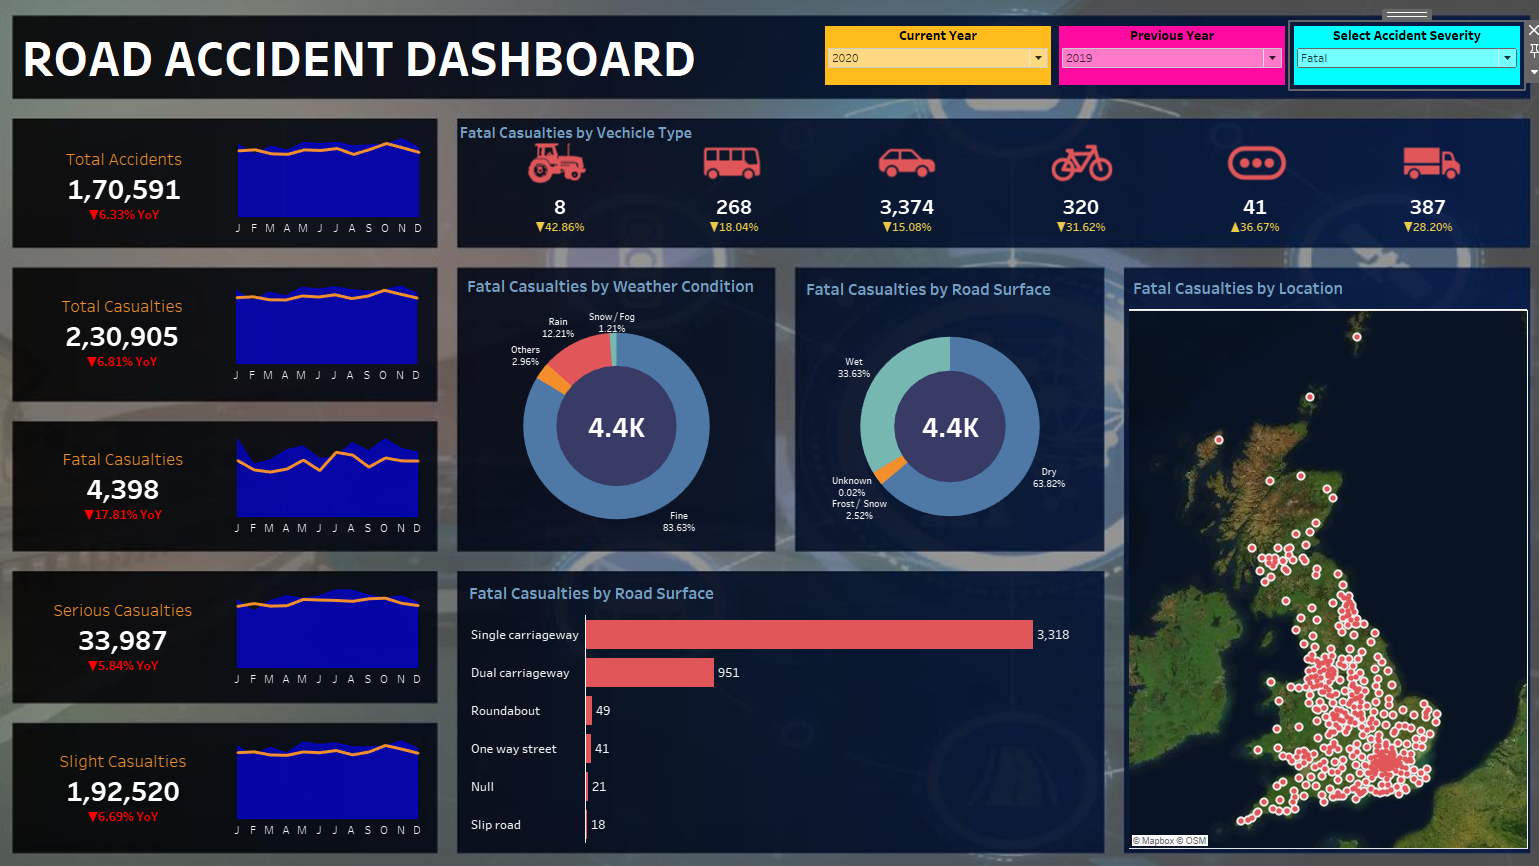

The page's visual inventory and layout, read from the dashboard file:
{"tool":"tableau","page":{"name":"Road Accident Dashboard","canvas":[1600,900],"ordinal":0},"visuals":[{"type":"image","param":"C:/Users/ASUS/Documents/Projects/Tableau Dashboard/Road Accident Dashboard/Backg","box":[8,8,1584,884]},{"type":"text","box":[46,17,775,108]},{"type":"parameter","param":"[Parameters].[Parameter 1]","box":[848,37,234.3,67]},{"type":"parameter","param":"[Parameters].[Current Year (copy)_975592275588612097]","box":[1082.3,37,234.3,67]},{"type":"parameter","param":"[Parameters].[Parameter 2]","box":[1316.7,37,234.3,67]},{"type":"text","box":[484,132,332,30]},{"type":"worksheet","title":"Total Accidents","mark":"Automatic","box":[48,146,205,110]},{"type":"worksheet","title":"Accident Sparkline","mark":"Automatic","rows":["CY Accidents (copy)_975592275590017027","Calculation_975592275588898818"],"cols":["Accident Date"],"box":[253,146,205,110]},{"type":"worksheet","title":"Vehicle Type Images","mark":"Shape","box":[496,157,1050,42]},{"type":"worksheet","title":"Vechile Type KPI","mark":"Automatic","box":[496,199,1050,58]},{"type":"worksheet","title":"Weather Conditions","mark":"Pie","rows":["Calculation_664280951812317185","Calculation_664280951812382723"],"box":[490,286,307,273]},{"type":"worksheet","title":"By Location","mark":"Automatic","rows":["Latitude"],"cols":["Longitude"],"box":[1156,288,399,576]},{"type":"worksheet","title":"Road Surface","mark":"Pie","rows":["Calculation_664280951812317185","Calculation_664280951812382723"],"box":[829,289,296,268]},{"type":"worksheet","title":"Total Casualties","mark":"Automatic","box":[46,293,205,110]},{"type":"worksheet","title":"Total Casualties Sparkline","mark":"Automatic","rows":["CY Casualties (copy)_975592275595239430","Calculation_975592275593904133"],"cols":["Accident Date"],"box":[251,293,205,110]},{"type":"worksheet","title":"Fatal Casualties","mark":"Automatic","box":[47,446,205,110]},{"type":"worksheet","title":"Fatal Sparkline","mark":"Automatic","rows":["CY Fatal Casualties (copy)_975592275597860873","Calculation_975592275596660744"],"cols":["Accident Date"],"box":[252,446,205,110]},{"type":"worksheet","title":"Road Type","mark":"Automatic","rows":["Road_Type"],"cols":["Calculation_975592275593904133"],"box":[492,593,632,265]},{"type":"worksheet","title":"Serious Casualties","mark":"Automatic","box":[47,597,205,110]},{"type":"worksheet","title":"Serious Sparkline","mark":"Automatic","rows":["PY Fatal Casualties (copy)_975592275599323148","CY Fatal Casualties (copy)_975592275598983179"],"cols":["Accident Date"],"box":[252,597,205,110]},{"type":"worksheet","title":"Slight Casualties","mark":"Automatic","box":[47,748,205,110]},{"type":"worksheet","title":"Slight Sparkline","mark":"Automatic","rows":["PY Serious Casualties (copy)_975592275600191503","CY Serious Casualties (copy)_975592275599986702"],"cols":["Accident Date"],"box":[252,748,205,110]}]}

Visuals, with their boxes in screenshot pixels (x1, y1, x2, y2), scaled from the page's 1600x900 canvas onto the 1539x866 screenshot:
image: crop(8, 8, 1531, 858)
text: crop(44, 16, 790, 120)
parameter: crop(816, 36, 1041, 100)
parameter: crop(1041, 36, 1266, 100)
parameter: crop(1267, 36, 1492, 100)
text: crop(466, 127, 785, 156)
"Total Accidents" worksheet: crop(46, 140, 243, 246)
"Accident Sparkline" worksheet: crop(243, 140, 441, 246)
"Vehicle Type Images" worksheet (Shape marks): crop(477, 151, 1487, 191)
"Vechile Type KPI" worksheet: crop(477, 191, 1487, 247)
"Weather Conditions" worksheet (Pie marks): crop(471, 275, 767, 538)
"By Location" worksheet: crop(1112, 277, 1496, 831)
"Road Surface" worksheet (Pie marks): crop(797, 278, 1082, 536)
"Total Casualties" worksheet: crop(44, 282, 241, 388)
"Total Casualties Sparkline" worksheet: crop(241, 282, 439, 388)
"Fatal Casualties" worksheet: crop(45, 429, 242, 535)
"Fatal Sparkline" worksheet: crop(242, 429, 440, 535)
"Road Type" worksheet: crop(473, 571, 1081, 826)
"Serious Casualties" worksheet: crop(45, 574, 242, 680)
"Serious Sparkline" worksheet: crop(242, 574, 440, 680)
"Slight Casualties" worksheet: crop(45, 720, 242, 826)
"Slight Sparkline" worksheet: crop(242, 720, 440, 826)
